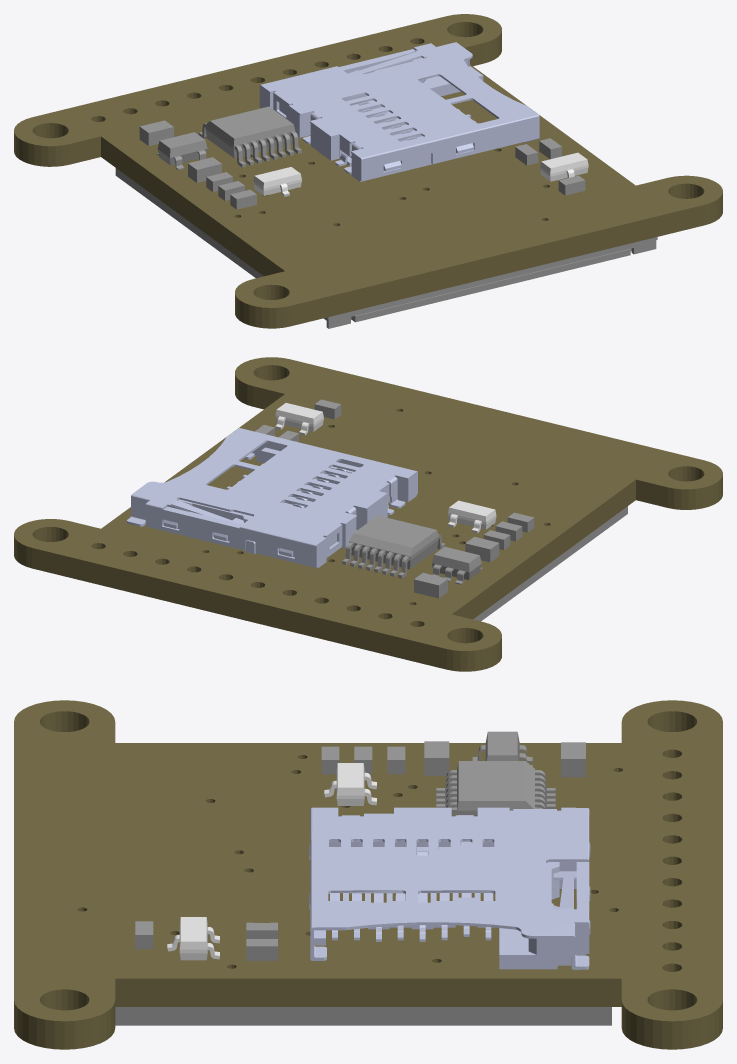
The model's file is adafruit-4313-tft-13.glb.
3 views of the same model, one above another, from view 1: azimuth 30°, elevation 25°; view 2: azimuth 150°, elevation 25°; view 3: azimuth 270°, elevation 25° (orthographic). The views are drawn at different scales.
Visible parts, largest first — view 1: colour 1, colour 2, colour 3, colour 4; view 2: colour 1, colour 2, colour 3, colour 4; view 3: colour 1, colour 2, colour 3, colour 4.
Boxes of the visible parts, bbox=[...] form: colour 1: bbox=[14, 14, 722, 328]; colour 2: bbox=[259, 42, 539, 181]; colour 3: bbox=[115, 106, 657, 328]; colour 4: bbox=[253, 152, 588, 196]; colour 1: bbox=[14, 357, 722, 671]; colour 2: bbox=[126, 428, 417, 568]; colour 3: bbox=[255, 399, 627, 621]; colour 4: bbox=[275, 403, 496, 533]; colour 1: bbox=[14, 700, 722, 1049]; colour 2: bbox=[309, 807, 590, 969]; colour 3: bbox=[115, 731, 611, 1025]; colour 4: bbox=[167, 763, 376, 960].
Size of the model in its own units: 0.0381 by 0.00491 by 0.0356.
